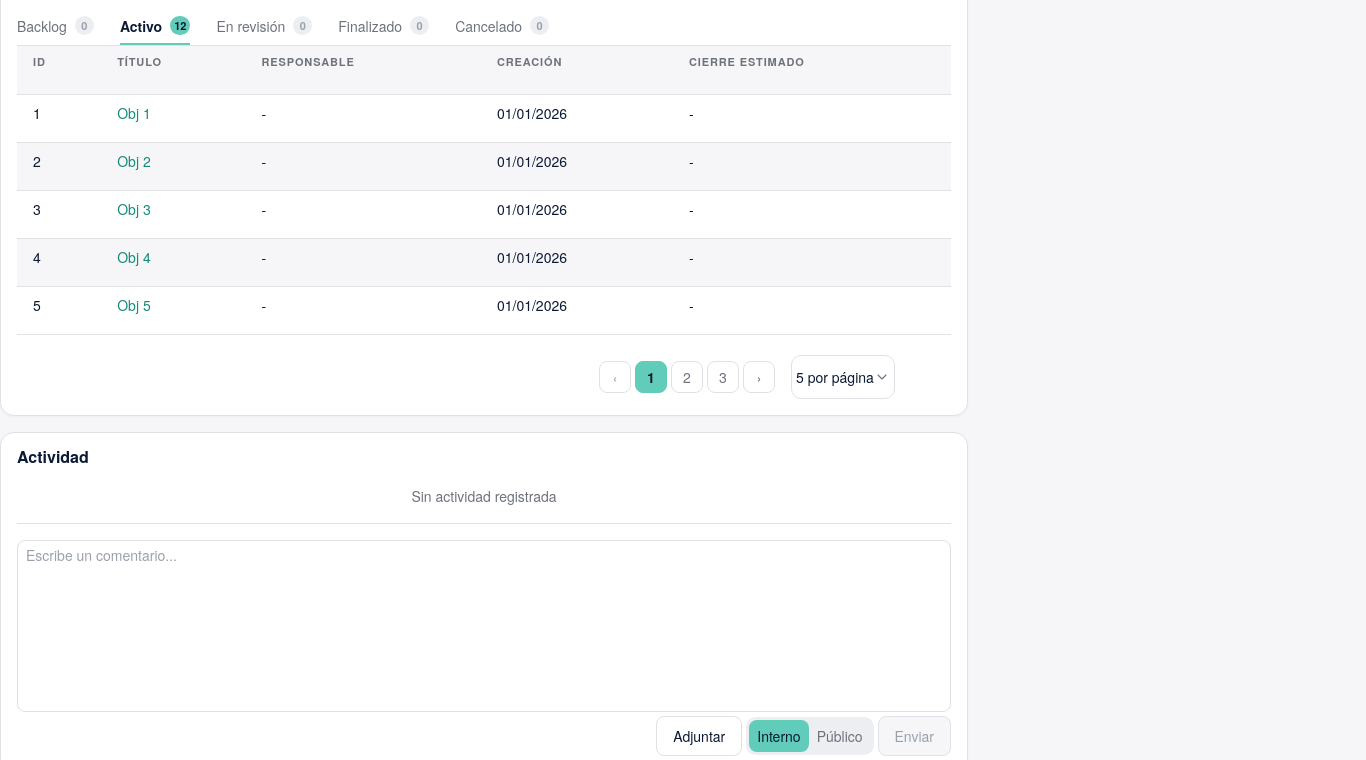
Test case: RequirementDetail › Card Tareas — linkedObjectives (AC-6/AC-7) › Paginado unificado con el de detalle de proyecto (S-039) › TS-5: cambiar de página no navega por URL
The width and height of the screenshot is (1366, 760).
(page scrolled)
Click the button named "Página 2" at [687, 377], box [671,361,703,393]
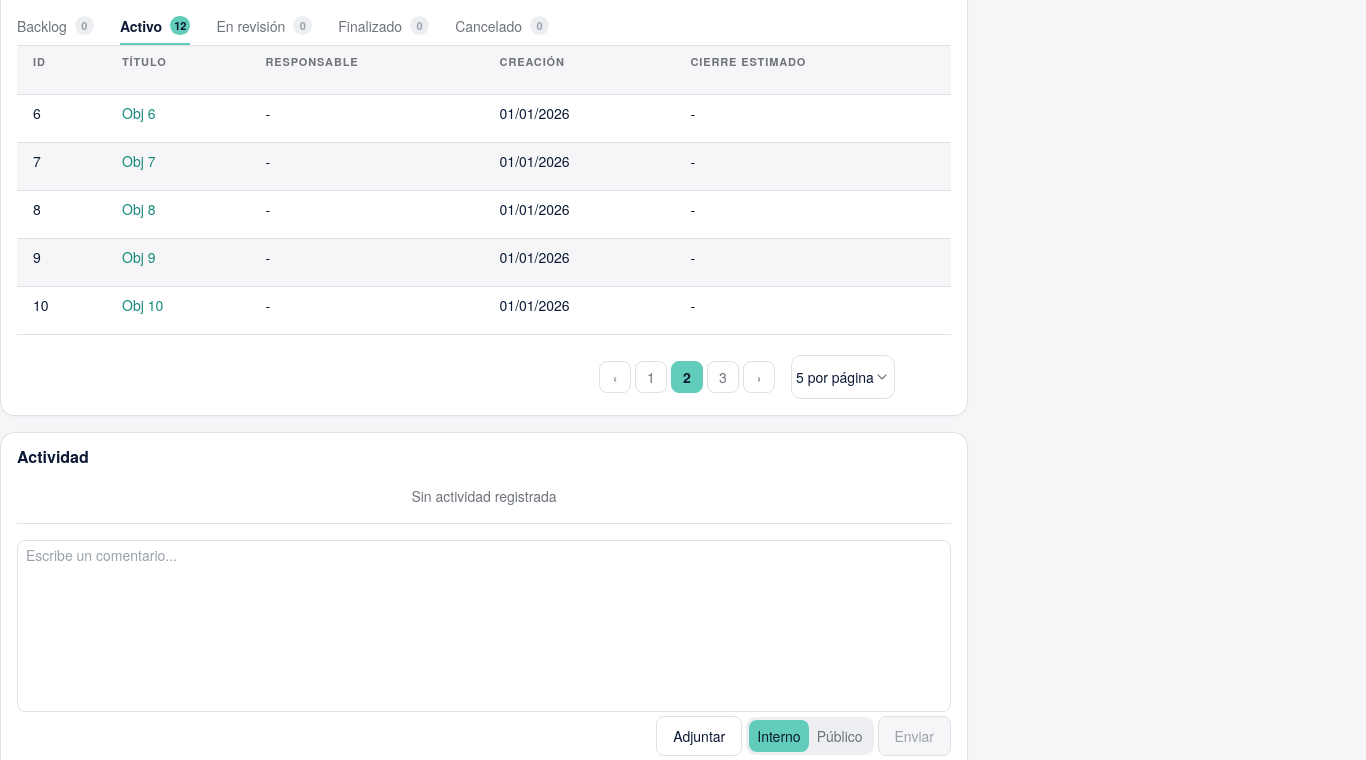
Result: the link "Obj 6" is shown at [122,103,156,123]
